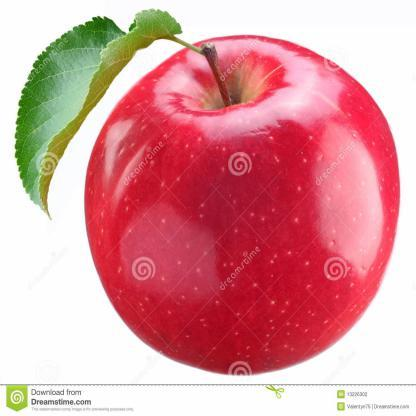Apple leaf: (13, 3, 194, 222)
